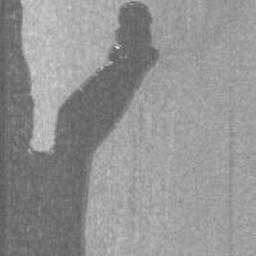Water spot: (0, 0, 161, 256)
